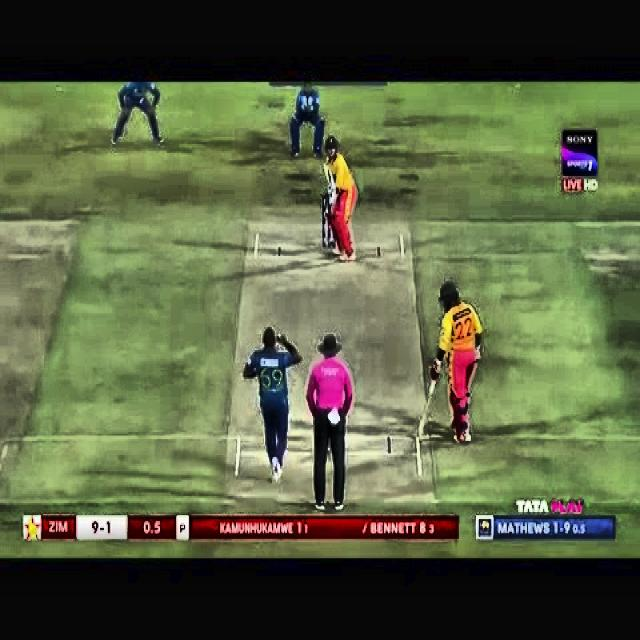Left-stump: (323, 196, 325, 247)
Middle-stump: (328, 225, 331, 247)
Right-stump: (333, 232, 335, 247)
